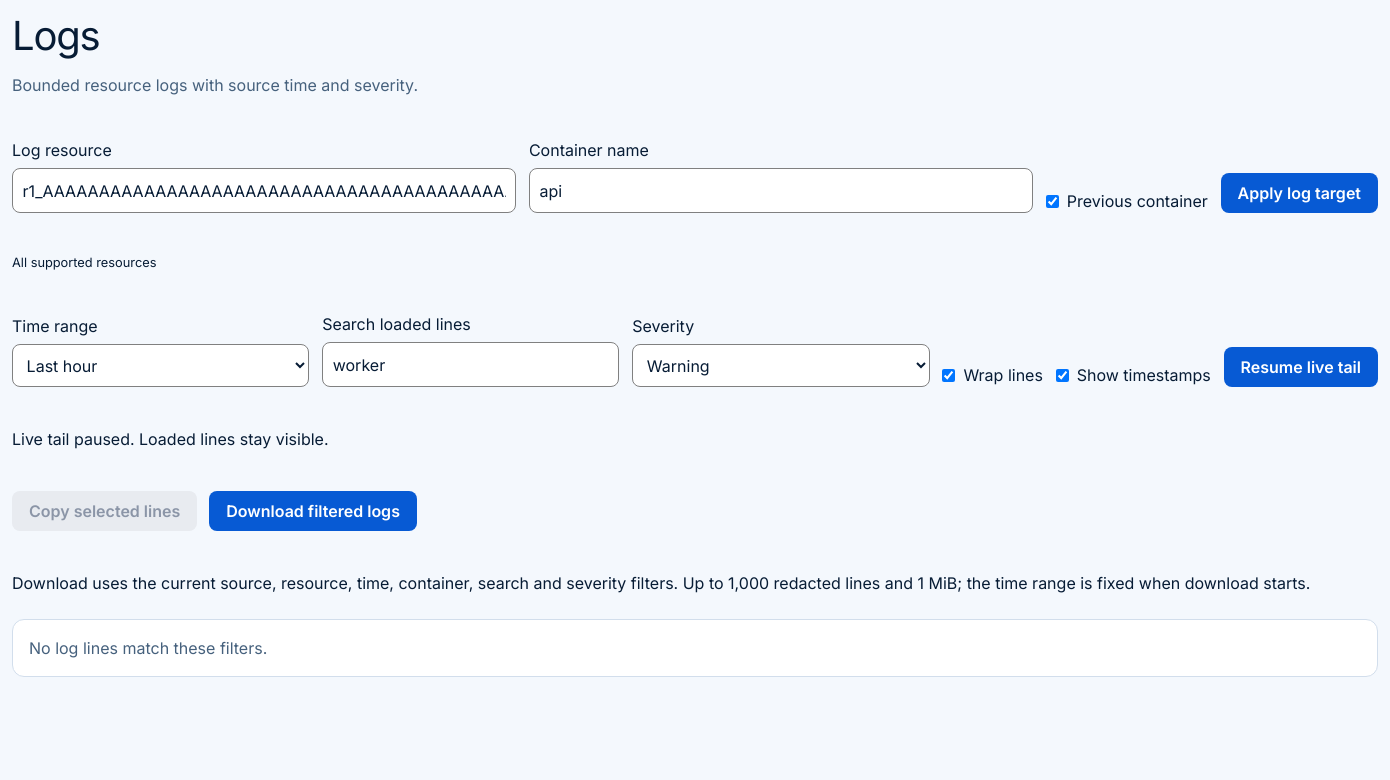
filtered log download › saves no file for incomplete or policy-denied downloads (false)
Click the button "Download filtered logs": (313, 511) [209,491,417,531]
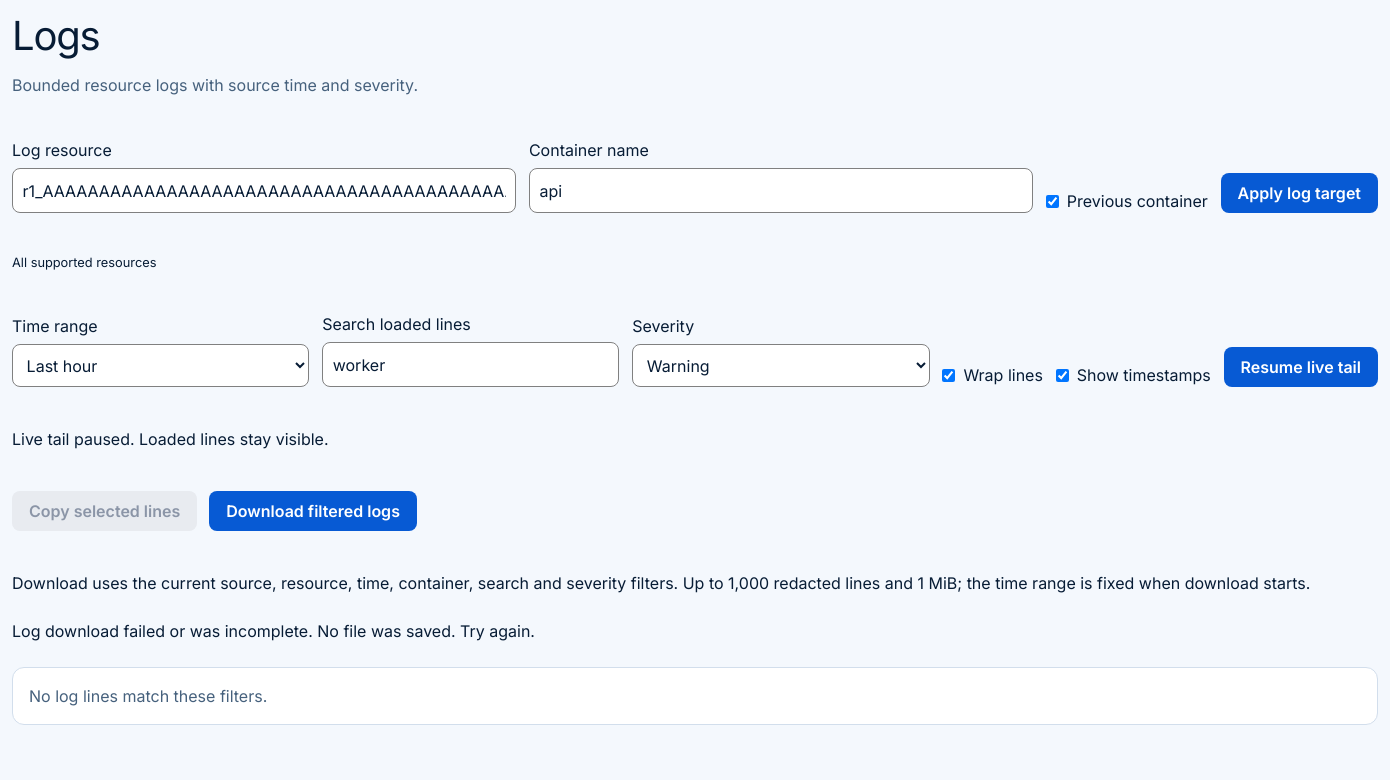
Check: the text "Log download failed or was incomplete. No file was saved. Try again." is shown, box [12,621,535,641]
